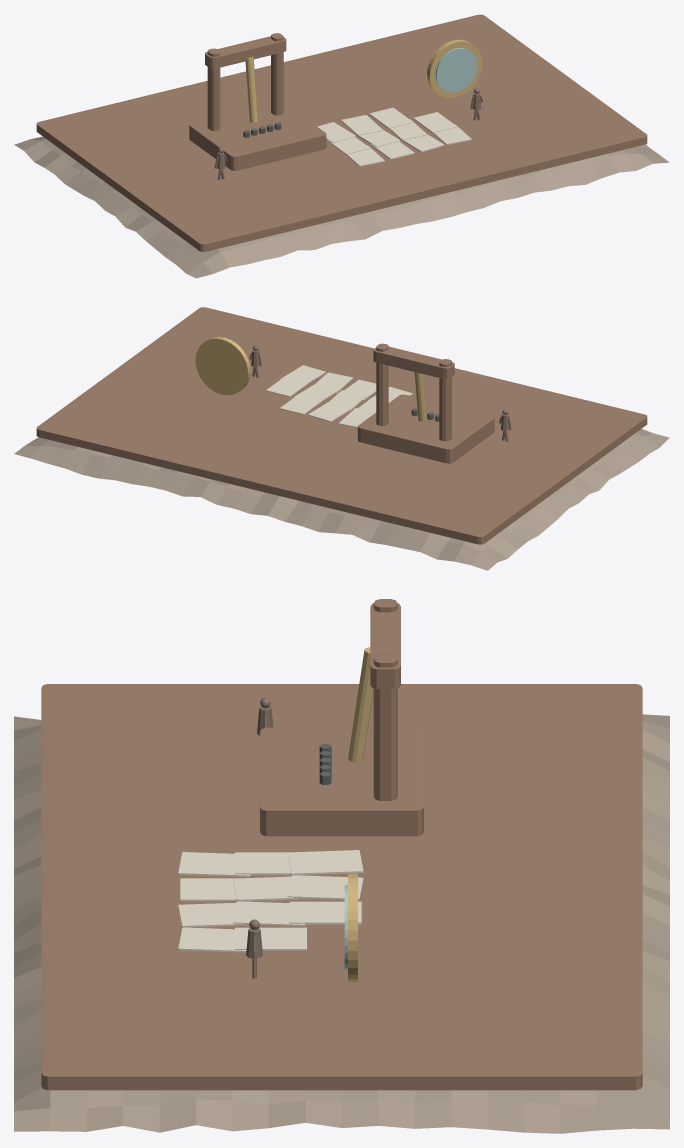
The model's file is world-07-knowledge.glb.
3 views of the same model, one above another, from view 1: azimuth 30°, elevation 25°; view 2: azimuth 150°, elevation 25°; view 3: azimuth 270°, elevation 25° (orthographic). The views are drawn at different scales.
Parts seen in each view (by area): view 1: BH_WORLD_07_Batch_01, BH_WORLD_07_Terrain.003, BH_WORLD_07_Batch_03, BH_WORLD_07_Batch_02, Glass.003, BH_WORLD_07_Batch_06; view 2: BH_WORLD_07_Batch_01, BH_WORLD_07_Terrain.003, BH_WORLD_07_Batch_03, BH_WORLD_07_Batch_02, BH_WORLD_07_Batch_06; view 3: BH_WORLD_07_Batch_01, BH_WORLD_07_Terrain.003, BH_WORLD_07_Batch_03, BH_WORLD_07_Batch_02, BH_WORLD_07_Batch_06.
Boxes of the visible parts, x1,y1,x2,y2 form: BH_WORLD_07_Batch_01: (36,14,647,251); BH_WORLD_07_Terrain.003: (14,136,669,278); BH_WORLD_07_Batch_03: (317,107,471,166); BH_WORLD_07_Batch_02: (245,39,482,122); Glass.003: (435,48,477,92); BH_WORLD_07_Batch_06: (214,88,483,179); BH_WORLD_07_Batch_01: (36,307,647,544); BH_WORLD_07_Terrain.003: (14,428,669,570); BH_WORLD_07_Batch_03: (266,365,412,427); BH_WORLD_07_Batch_02: (195,336,426,421); BH_WORLD_07_Batch_06: (249,345,511,441); BH_WORLD_07_Batch_01: (41,599,642,1090); BH_WORLD_07_Terrain.003: (14,714,669,1133); BH_WORLD_07_Batch_03: (178,850,363,952); BH_WORLD_07_Batch_02: (348,647,373,982); BH_WORLD_07_Batch_06: (246,698,273,978).
Bounding box in the file's own units: 18 × 4.53 × 12.
